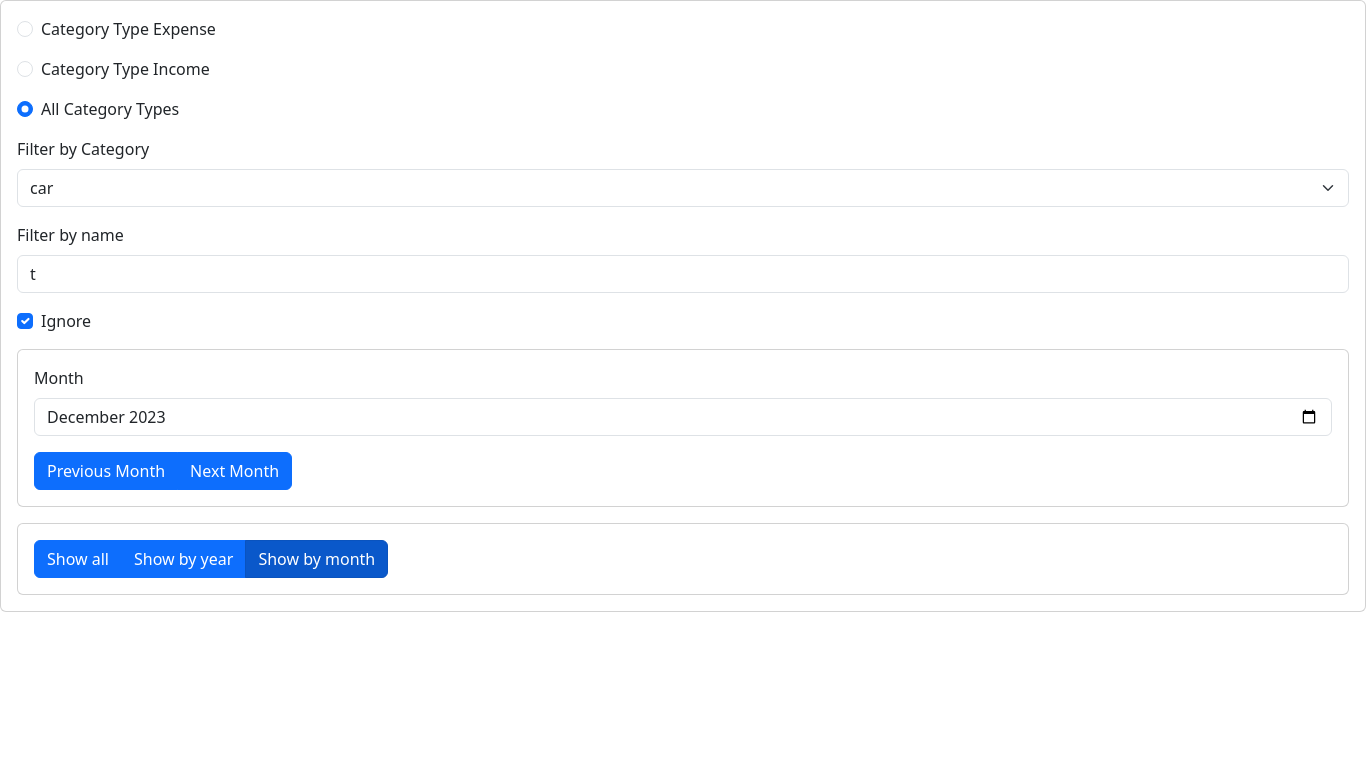
Test: FilterBudgetListForm › If filter type Year should render year filter from.
Click the button "Show by year" at (184, 559), box [121, 540, 246, 578]
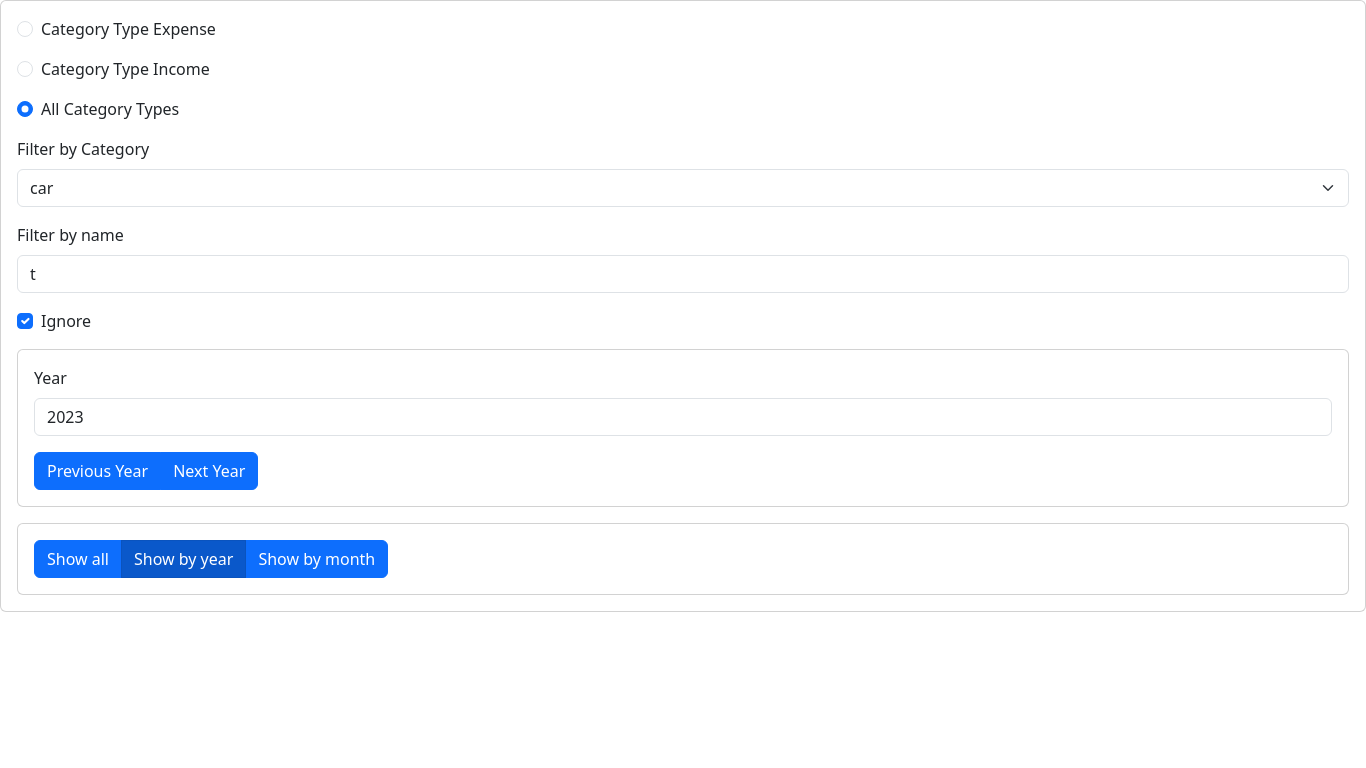
Result: the number field labelled "Year" is shown at [34, 398, 1332, 436]
